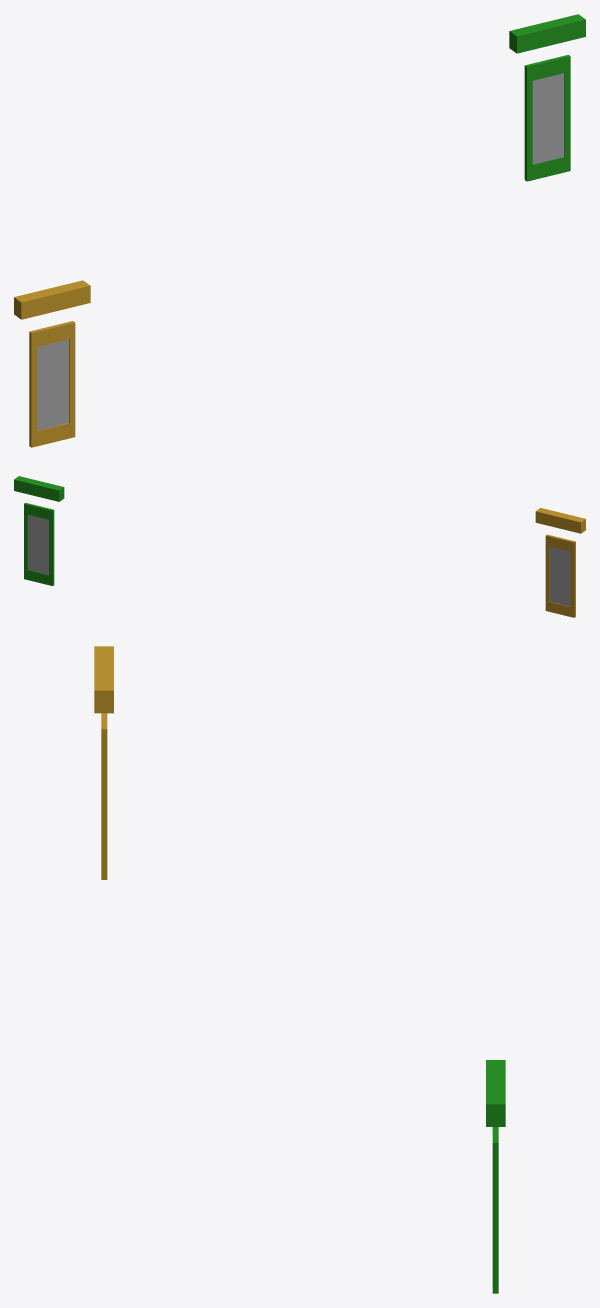
File: keycard_doors.fbx
3 renders of one model, top to bottom at view 1: azimuth 30°, elevation 25°; view 2: azimuth 150°, elevation 25°; view 3: azimuth 270°, elevation 25°, orthographic. The views are drawn at different scales.
Parts seen in each view (by area): view 1: pCube306, pCube307; view 2: pCube306, pCube307; view 3: pCube306, pCube307.
Part boxes in pixels (box(x1,y1,x2,y2)): pCube306: box(14, 280, 90, 447); pCube307: box(509, 14, 585, 181); pCube306: box(535, 508, 585, 617); pCube307: box(14, 476, 64, 585); pCube306: box(94, 646, 113, 879); pCube307: box(486, 1060, 505, 1293).
Bounding box in the file's own units: 55.36 × 11.14 × 21.
